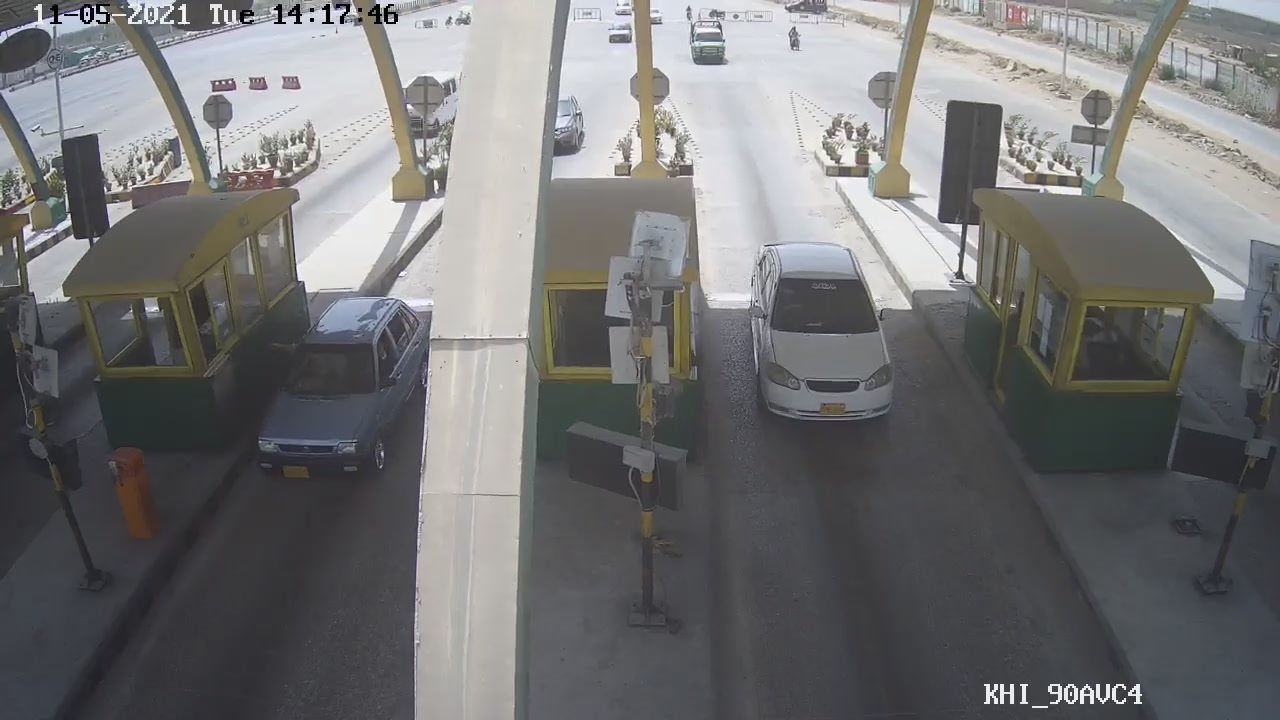F1: (744, 231, 900, 435)
